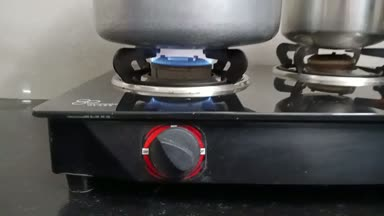flame_gas_on: (97, 32, 258, 187)
